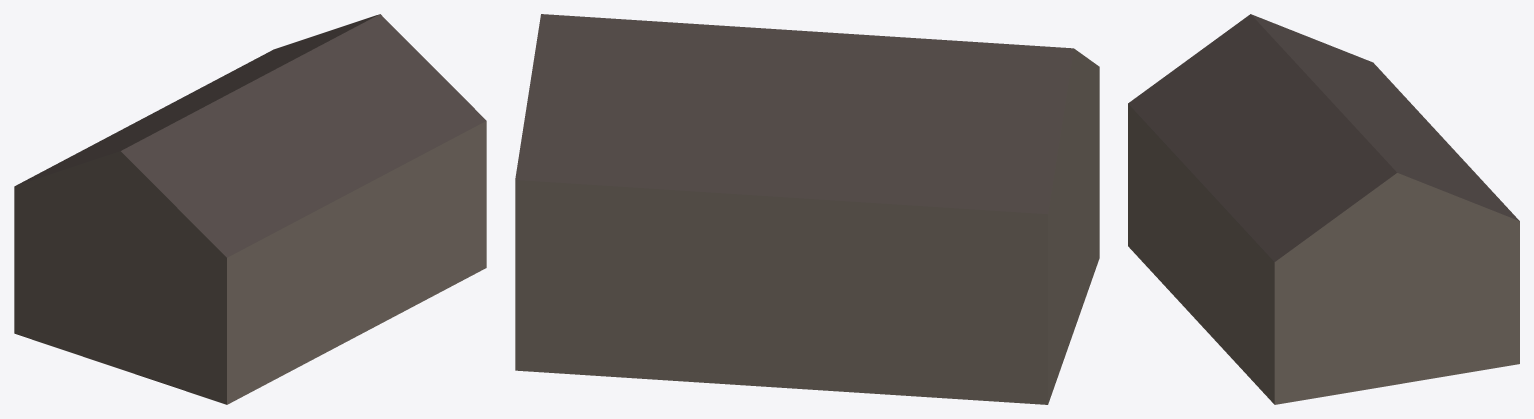
3 renders of one model, left to right at view 1: azimuth 30°, elevation 25°; view 2: azimuth 150°, elevation 25°; view 3: azimuth 270°, elevation 25°, orthographic. The views are drawn at different scales.
Parts seen in each view (by area): view 1: HP-w859088524; view 2: HP-w859088524; view 3: HP-w859088524.
Boxes of the visible parts, x1,y1,x2,y2 form: HP-w859088524: (14, 14, 486, 404); HP-w859088524: (515, 14, 1099, 404); HP-w859088524: (1128, 14, 1519, 404).
Bounding box in the file's own units: 27 × 13.35 × 22.4.
